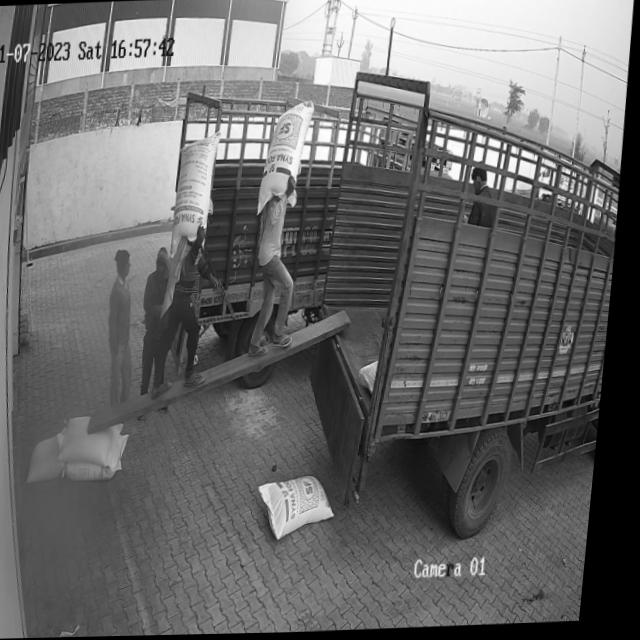sack: (258, 101, 319, 217), (172, 131, 225, 257), (264, 475, 348, 541), (64, 413, 132, 472), (72, 433, 138, 480), (34, 432, 75, 481)
